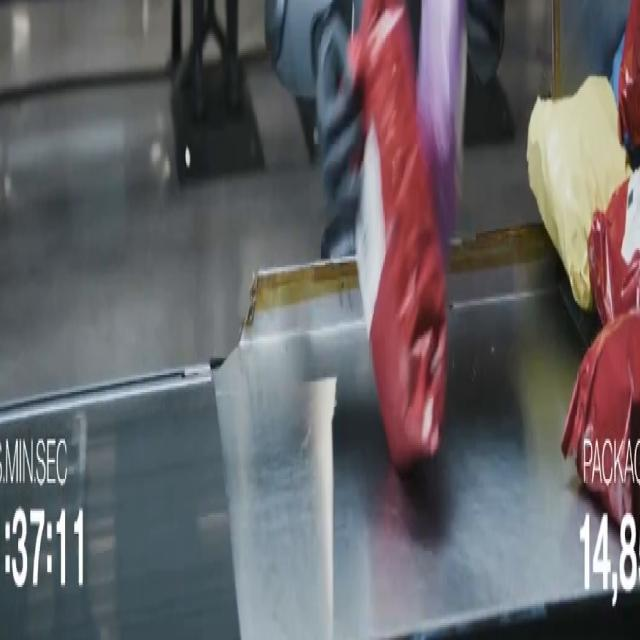package: (349, 0, 446, 470), (527, 77, 630, 311), (562, 312, 639, 525), (417, 0, 466, 256), (589, 170, 639, 324), (618, 0, 639, 148), (611, 34, 624, 105), (611, 34, 624, 103)
